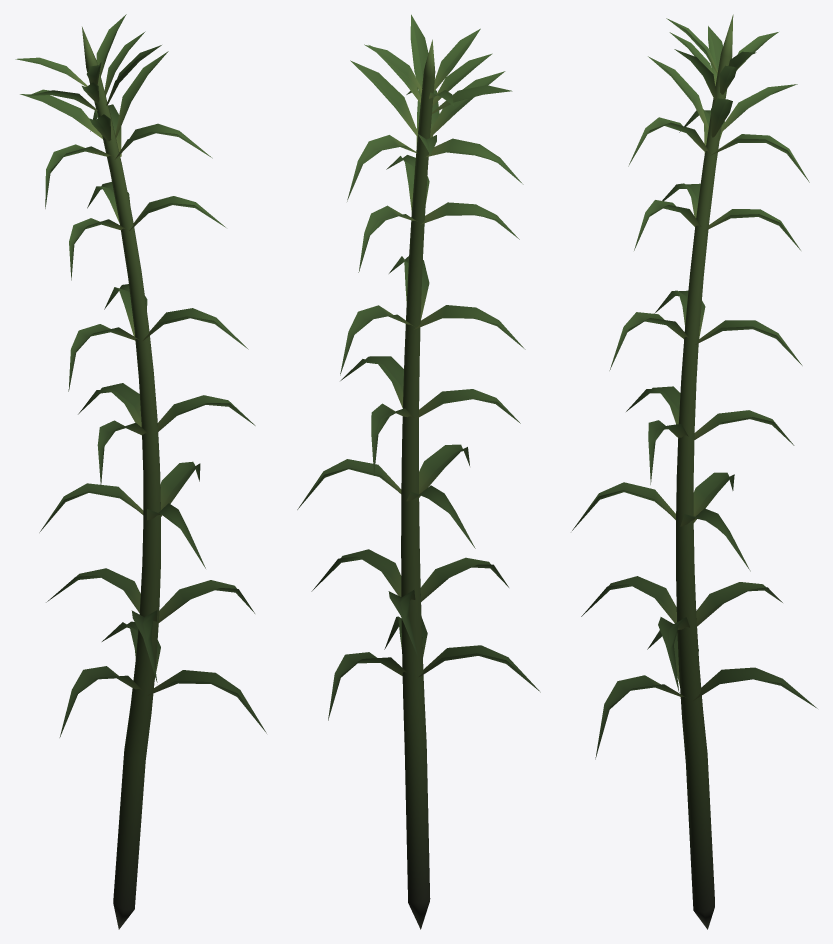
Rendered from underwater-aquatic-plants-waterweed_v4.glb.
The picture shows the model from 3 angles, left to right: view 1: azimuth 30°, elevation 25°; view 2: azimuth 150°, elevation 25°; view 3: azimuth 270°, elevation 25°; orthographic projection.
Visible parts, largest first — view 1: Waterweed_v4; view 2: Waterweed_v4; view 3: Waterweed_v4.
Part boxes in pixels (box(x1,y1,x2,y2)): Waterweed_v4: box(15, 14, 266, 929); Waterweed_v4: box(297, 14, 540, 929); Waterweed_v4: box(572, 14, 817, 929).
Bounding box in the file's own units: 0.1499 × 0.6 × 0.1493.
